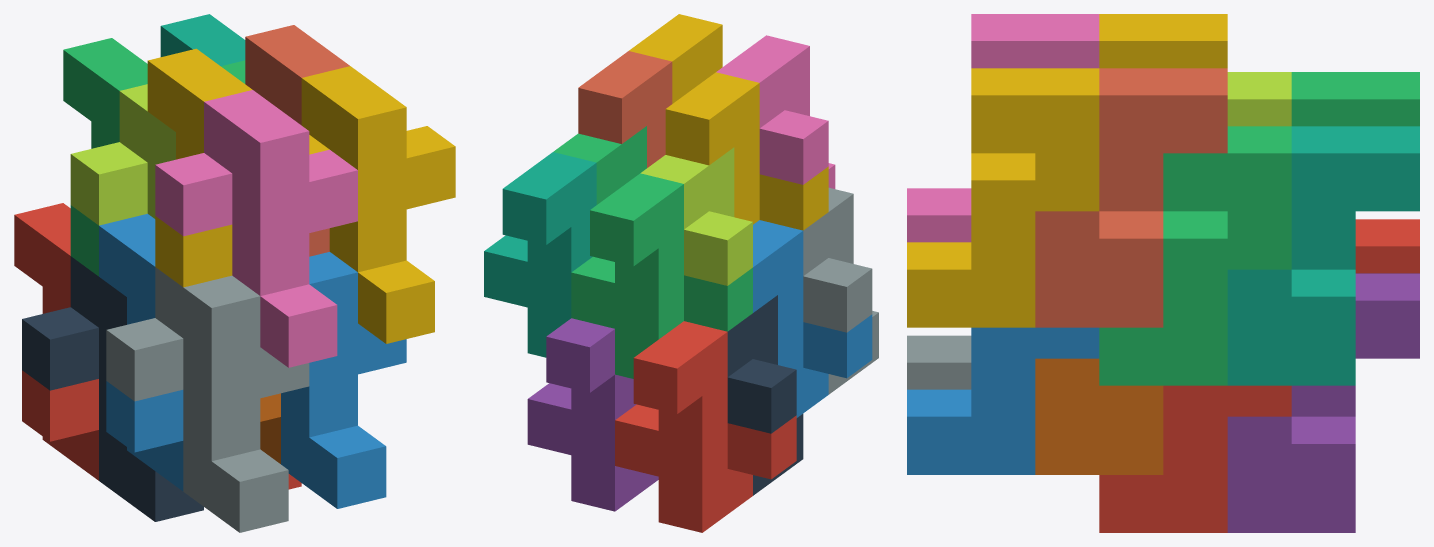
Rendered from tiling.obj.
The picture shows the model from 3 angles, left to right: view 1: azimuth 30°, elevation 25°; view 2: azimuth 150°, elevation 25°; view 3: azimuth 270°, elevation 25°; orthographic projection. The views are drawn at different scales.
Parts seen in each view (by area): view 1: copy_2_domain_4, copy_2_domain_2, copy_2_domain_8, copy_2_domain_6, copy_2_domain_1, copy_1_domain_2, copy_1_domain_1, copy_1_domain_4, copy_2_domain_3, copy_1_domain_3, copy_1_domain_8, copy_1_domain_7 (+1 smaller); view 2: copy_1_domain_1, copy_1_domain_3, copy_1_domain_7, copy_1_domain_5, copy_1_domain_4, copy_1_domain_2, copy_2_domain_4, copy_2_domain_3, copy_2_domain_2, copy_2_domain_1, copy_1_domain_8, copy_2_domain_8 (+1 smaller); view 3: copy_2_domain_8, copy_1_domain_8, copy_1_domain_7, copy_2_domain_7, copy_1_domain_5, copy_2_domain_6, copy_2_domain_5, copy_1_domain_6, copy_2_domain_4, copy_1_domain_4, copy_1_domain_3, copy_1_domain_1 (+2 smaller).
Boxes of the visible parts, <box> form: copy_2_domain_4: <box>155,90,357,367</box>; copy_2_domain_2: <box>106,267,309,532</box>; copy_2_domain_8: <box>301,66,455,343</box>; copy_2_domain_6: <box>281,252,406,508</box>; copy_2_domain_1: <box>22,256,203,521</box>; copy_1_domain_2: <box>99,213,183,491</box>; copy_1_domain_1: <box>14,203,98,480</box>; copy_1_domain_4: <box>147,48,252,287</box>; copy_2_domain_3: <box>70,84,175,225</box>; copy_1_domain_3: <box>63,38,147,276</box>; copy_1_domain_8: <box>245,25,349,256</box>; copy_1_domain_7: <box>160,14,245,66</box>; copy_1_domain_1: <box>615,321,796,532</box>; copy_1_domain_3: <box>571,173,752,378</box>; copy_1_domain_7: <box>484,152,596,357</box>; copy_1_domain_5: <box>527,318,658,511</box>; copy_1_domain_4: <box>665,72,828,230</box>; copy_1_domain_2: <box>753,220,872,417</box>; copy_2_domain_4: <box>716,35,835,188</box>; copy_2_domain_3: <box>640,147,752,285</box>; copy_2_domain_2: <box>803,187,878,394</box>; copy_2_domain_1: <box>727,295,803,495</box>; copy_1_domain_8: <box>578,51,672,167</box>; copy_2_domain_8: <box>629,14,722,103</box>; copy_2_domain_8: <box>907,68,1099,327</box>; copy_1_domain_8: <box>1035,68,1227,327</box>; copy_1_domain_7: <box>1227,126,1419,385</box>; copy_2_domain_7: <box>1099,126,1291,385</box>; copy_1_domain_5: <box>1227,273,1419,532</box>; copy_2_domain_6: <box>907,327,1099,474</box>; copy_2_domain_5: <box>1099,385,1291,532</box>; copy_1_domain_6: <box>1035,358,1163,474</box>; copy_2_domain_4: <box>907,14,1099,242</box>; copy_1_domain_4: <box>1099,14,1227,68</box>; copy_1_domain_3: <box>1291,72,1419,126</box>; copy_1_domain_1: <box>1355,219,1419,273</box>.
Bounding box in the file's own units: 6 × 8 × 8.
